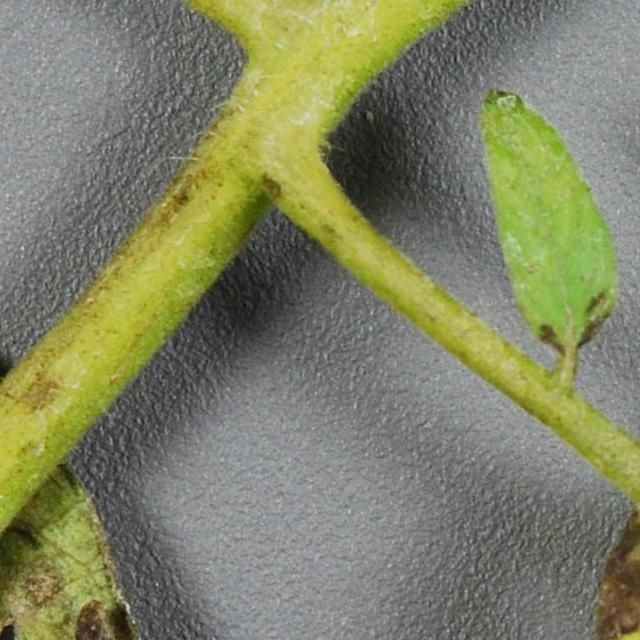Tomato Septoria leaf spot: (551, 313, 640, 640)
